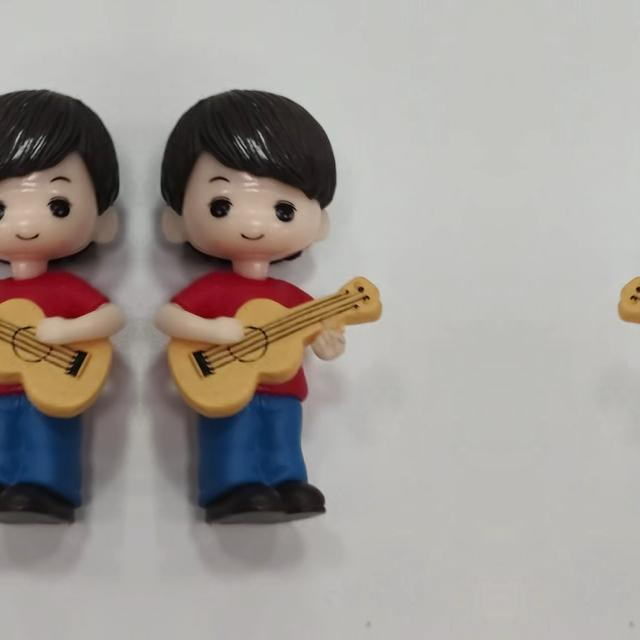man cloth: (158, 273, 332, 395), (0, 273, 122, 395)
man head: (149, 95, 335, 268), (0, 94, 131, 267)
